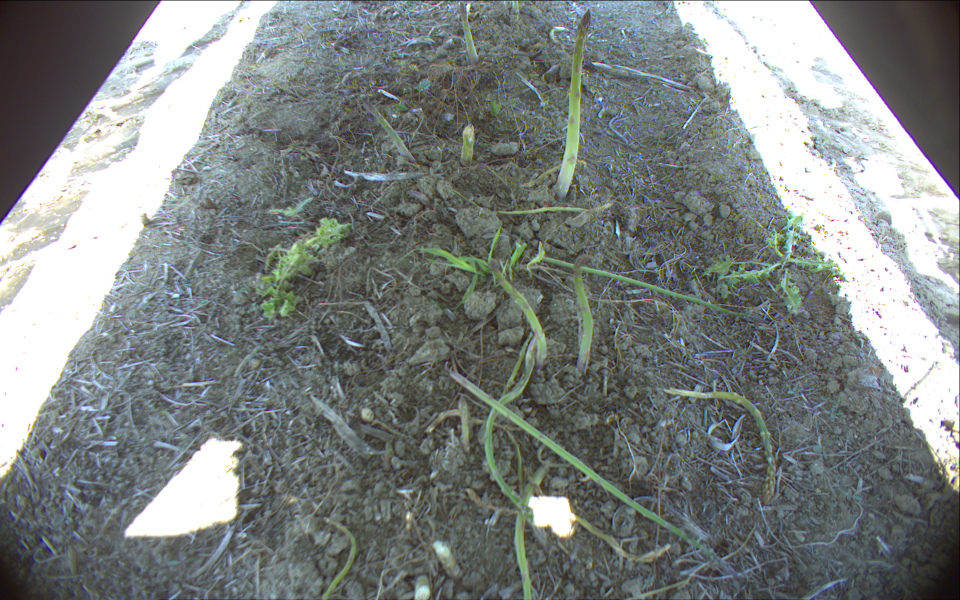aspa: (445, 367, 739, 576), (481, 331, 670, 564), (541, 253, 764, 323), (664, 386, 774, 503), (487, 258, 547, 366), (558, 8, 591, 197), (513, 458, 550, 600), (356, 96, 415, 163), (319, 516, 357, 600), (573, 255, 594, 377), (496, 204, 613, 221), (458, 1, 479, 65), (459, 124, 475, 164), (510, 1, 522, 18)
